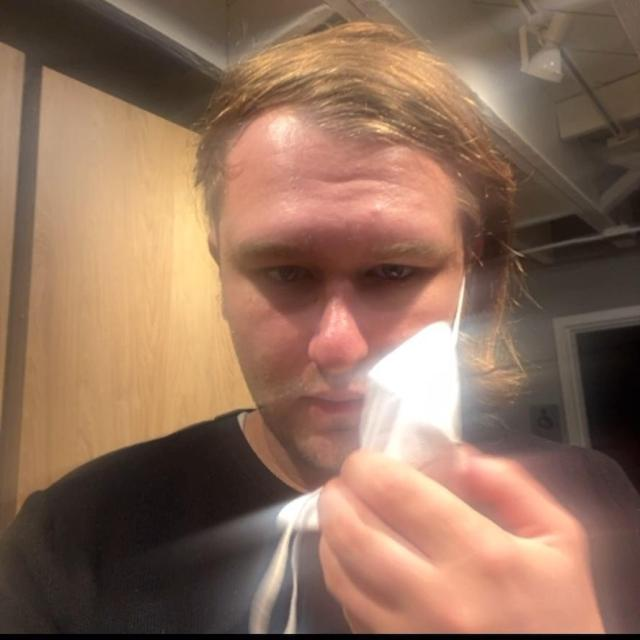no-helmet: (172, 44, 498, 525)
